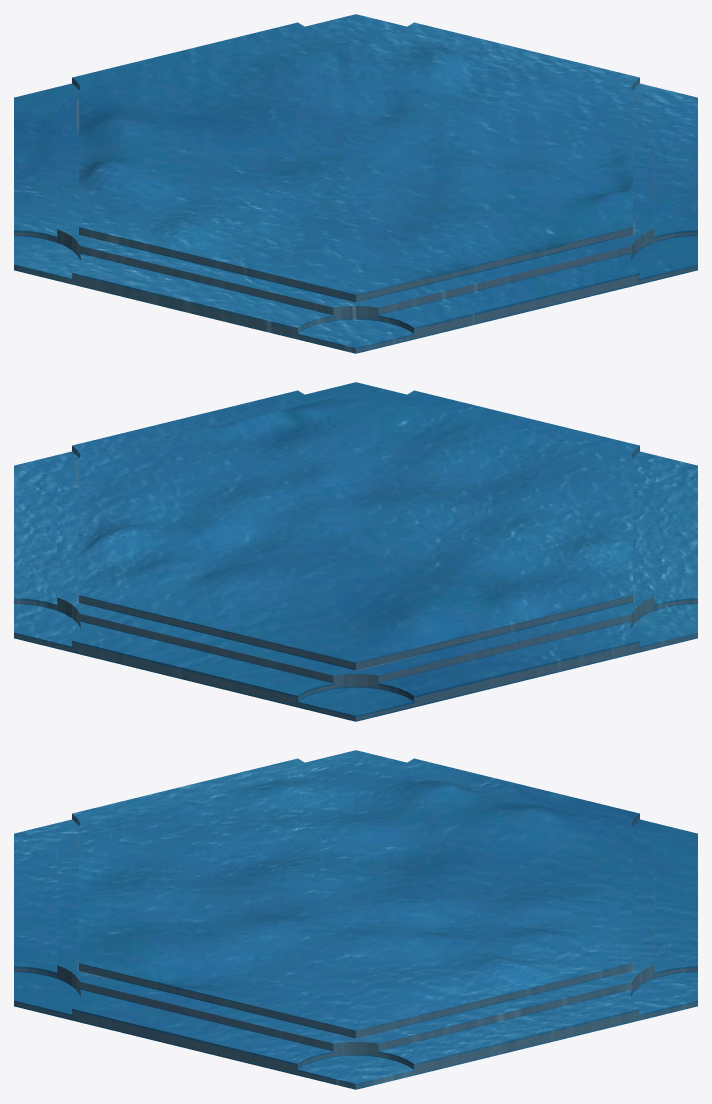
The model's file is Water.fbx.
3 views of the same model, one above another, from view 1: azimuth 30°, elevation 25°; view 2: azimuth 150°, elevation 25°; view 3: azimuth 270°, elevation 25° (orthographic).
Parts seen in each view (by area): view 1: node_id3; view 2: node_id3; view 3: node_id3.
Boxes of the visible parts, x1,y1,x2,y2 form: node_id3: (14, 14, 697, 353); node_id3: (14, 382, 697, 721); node_id3: (14, 750, 697, 1089).
Size of the model in its own units: 0.512 by 0.028 by 0.4434.
1 material, 1 textured.
